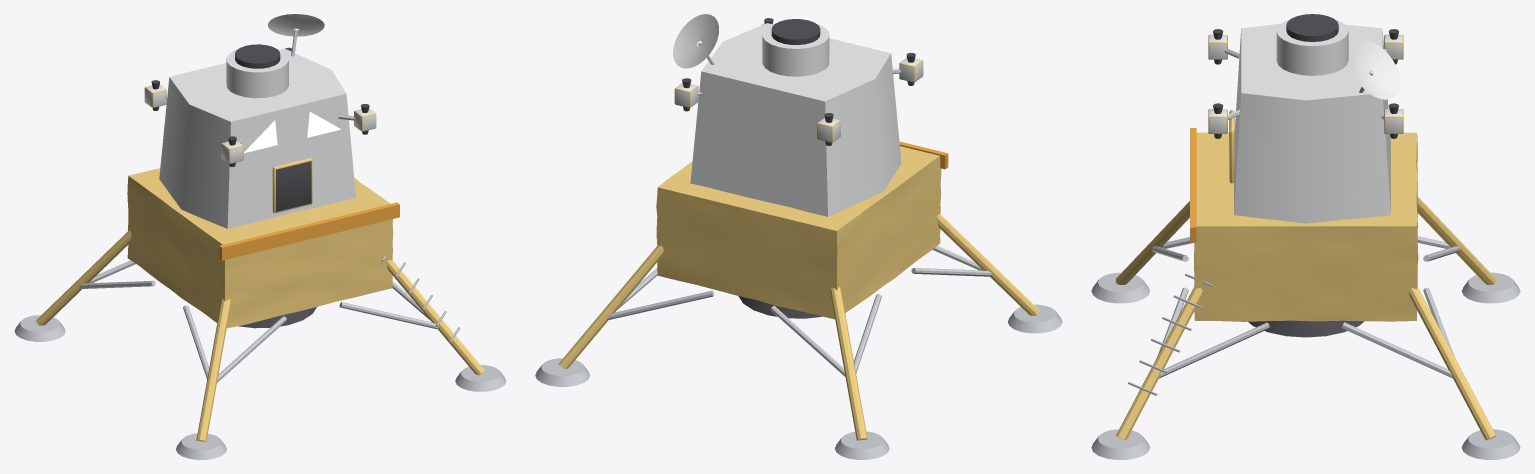
The model's file is Lander.fbx.
3 renders of one model, left to right at view 1: azimuth 30°, elevation 25°; view 2: azimuth 150°, elevation 25°; view 3: azimuth 270°, elevation 25°, orthographic. The views are drawn at different scales.
Parts seen in each view (by area): view 1: Lander; view 2: Lander; view 3: Lander.
Part boxes in pixels (x1,y1,x2,y2): Lander: (14, 14, 506, 459); Lander: (535, 14, 1062, 459); Lander: (1091, 14, 1520, 459).
Size of the model in its own units: 6.54 by 6.04 by 6.56.
